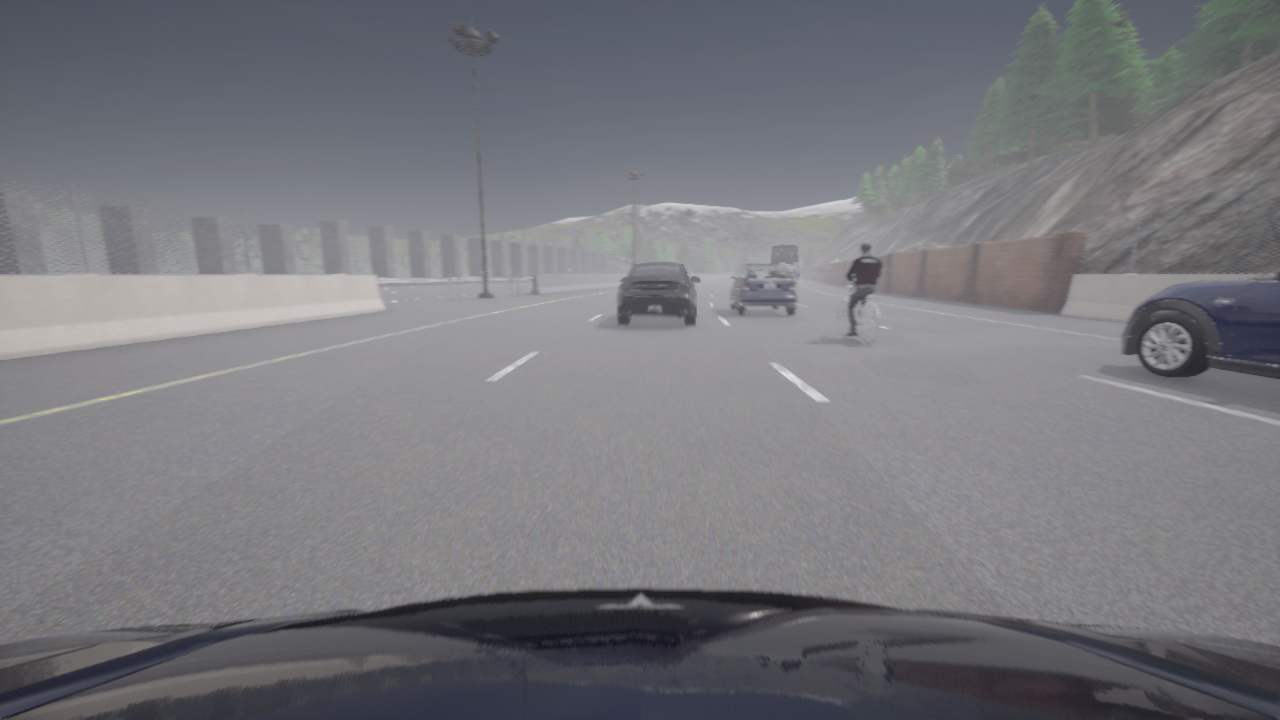cyclist: (0, 588, 1279, 719), (1120, 269, 1279, 379), (618, 262, 699, 324), (729, 263, 797, 315), (837, 280, 879, 343), (765, 243, 800, 285)
